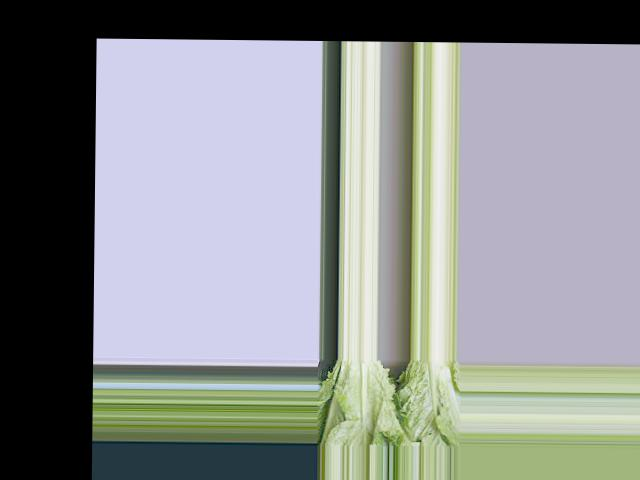lettuce: (399, 359, 456, 441)
